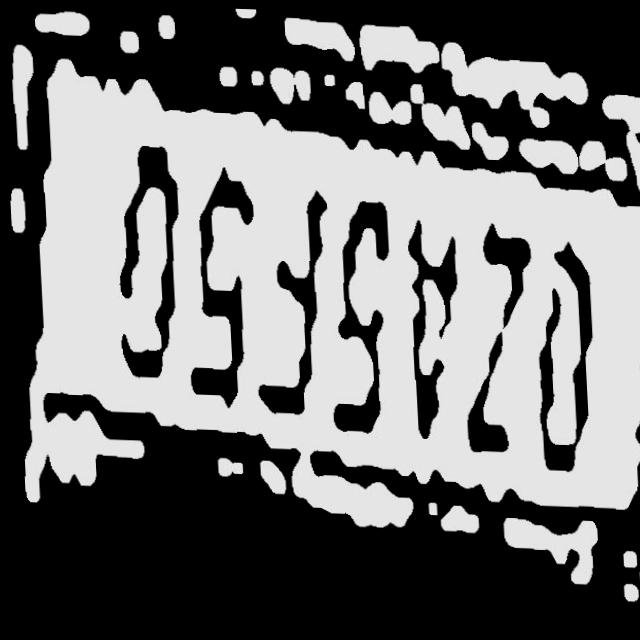0: (102, 139, 182, 387)
5: (177, 155, 258, 415), (318, 187, 397, 446)
a: (394, 211, 462, 444)
f: (249, 176, 327, 425)
q: (525, 225, 599, 471)
z: (454, 214, 536, 463)
